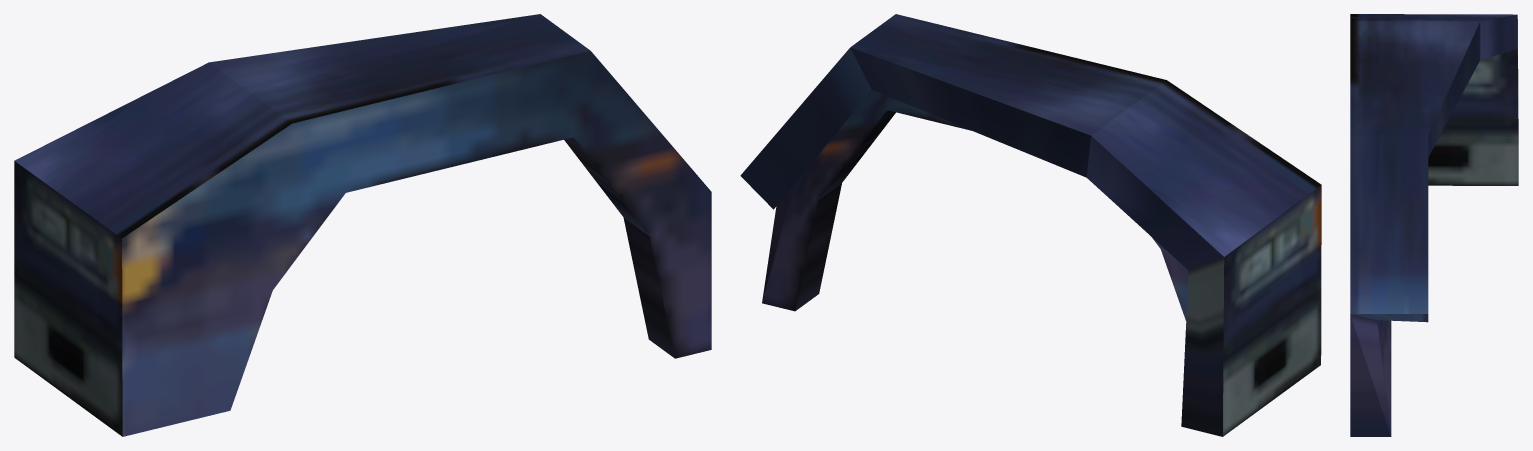
Rendered from Shared - Ground Vehicles - Big Rig - Damage State 07 - CVBigRig_d07.glb.
3 renders of one model, left to right at view 1: azimuth 30°, elevation 25°; view 2: azimuth 150°, elevation 25°; view 3: azimuth 270°, elevation 25°, orthographic. The views are drawn at different scales.
Parts seen in each view (by area): view 1: CVBIGRIG_D07; view 2: CVBIGRIG_D07; view 3: CVBIGRIG_D07.
Part boxes in pixels (bbox=[...]): CVBIGRIG_D07: bbox=[14, 14, 711, 436]; CVBIGRIG_D07: bbox=[740, 14, 1321, 436]; CVBIGRIG_D07: bbox=[1350, 14, 1518, 436].
Bounding box in the file's own units: 7.87 × 4.19 × 2.5.
Materials: 1 (1 with a texture image).
